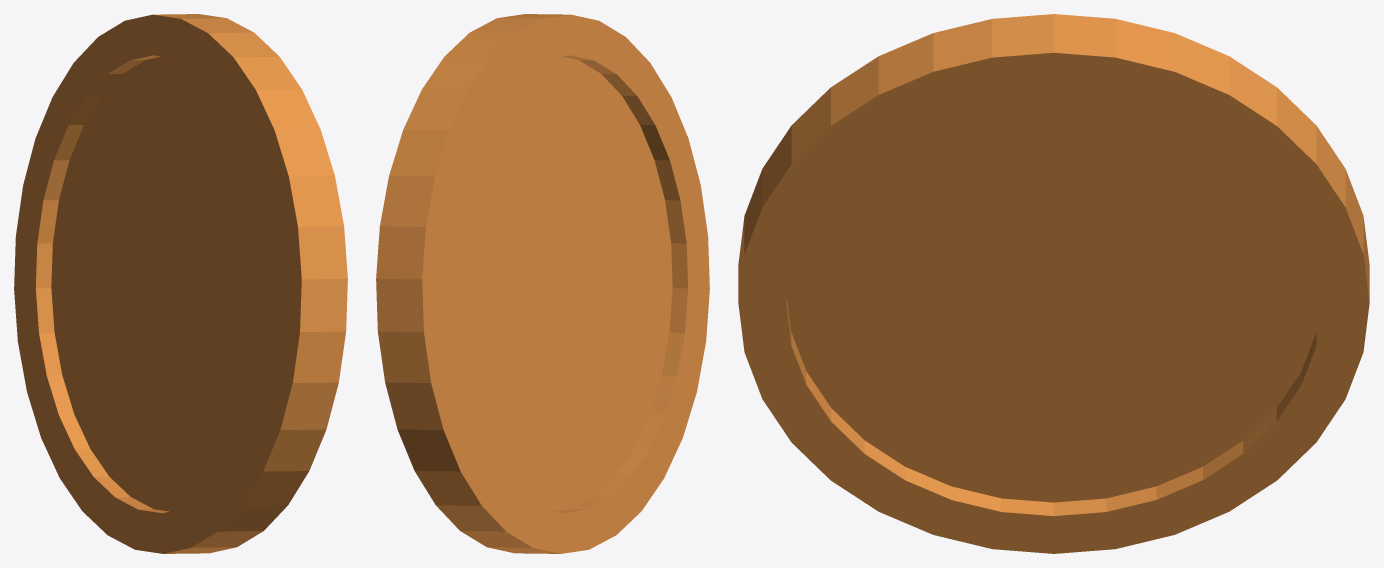
File: money.fbx
The picture shows the model from 3 angles, left to right: view 1: azimuth 30°, elevation 25°; view 2: azimuth 150°, elevation 25°; view 3: azimuth 270°, elevation 25°; orthographic projection. The views are drawn at different scales.
Parts seen in each view (by area): view 1: Cylinder; view 2: Cylinder; view 3: Cylinder.
Part boxes in pixels (x1,y1,x2,y2): Cylinder: (14,14,347,553); Cylinder: (376,14,709,553); Cylinder: (738,14,1369,553).
Bounding box in the file's own units: 62.8 × 200 × 200.
